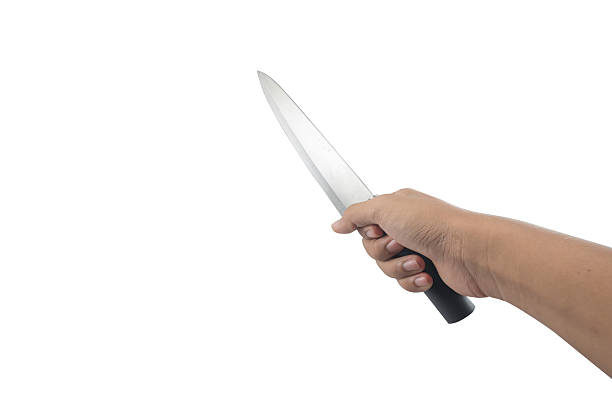knife: (254, 66, 474, 325)
